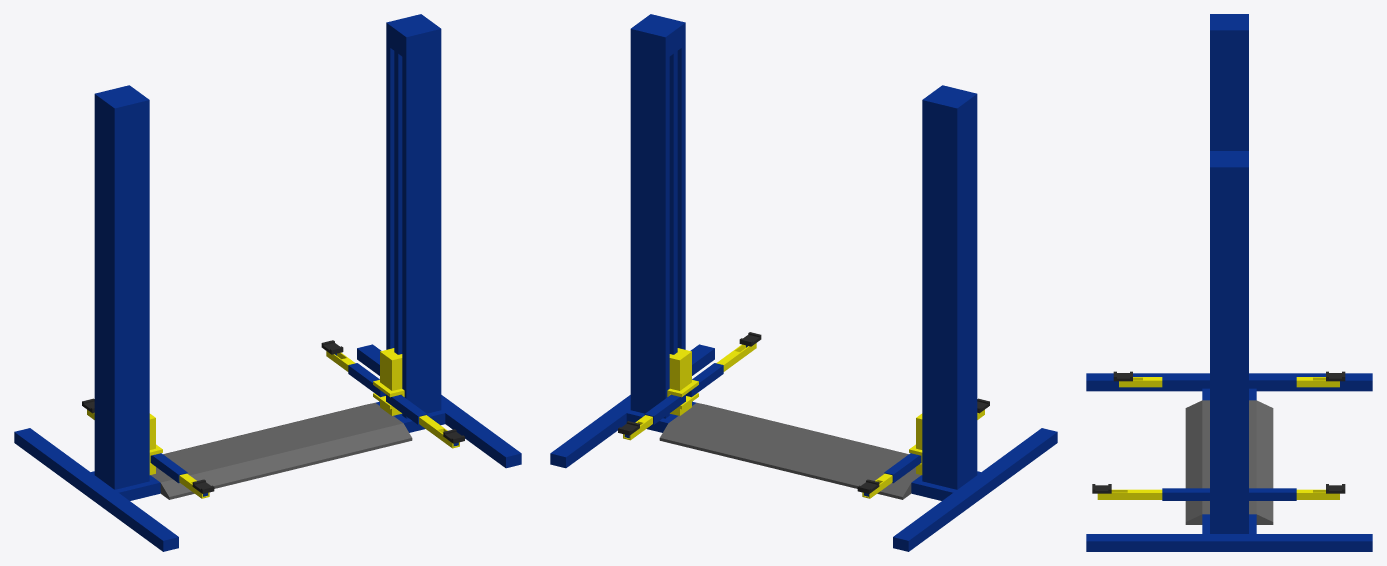
Rendered from Prop_HydraulicLift_v2.fbx.
3 views of the same model, side by side, from view 1: azimuth 30°, elevation 25°; view 2: azimuth 150°, elevation 25°; view 3: azimuth 270°, elevation 25° (orthographic). The views are drawn at different scales.
Visible parts, largest first — view 1: HydraulicLift, LiftPartAL; view 2: HydraulicLift, LiftPartAL; view 3: HydraulicLift, LiftPartBBL02, LiftPartBBL, LiftPartBFL, LiftPartBBR, LiftPartBFR, LiftPartBFL02, LiftPartBBR02, LiftPartBFR02.
Part boxes in pixels (box(x1,y1,x2,y2)): HydraulicLift: box(14, 14, 521, 551); LiftPartAL: box(373, 348, 404, 415); HydraulicLift: box(550, 14, 1057, 551); LiftPartAL: box(667, 348, 698, 415); HydraulicLift: box(1086, 14, 1372, 551); LiftPartBBL02: box(1097, 489, 1162, 499); LiftPartBBL: box(1162, 488, 1209, 500); LiftPartBFL: box(1249, 488, 1296, 500); LiftPartBBR: box(1162, 376, 1209, 388); LiftPartBFR: box(1249, 376, 1296, 388); LiftPartBFL02: box(1296, 489, 1339, 499); LiftPartBBR02: box(1119, 377, 1162, 387); LiftPartBFR02: box(1296, 377, 1339, 387).
Size of the model in its own units: 336 by 352 by 242.
